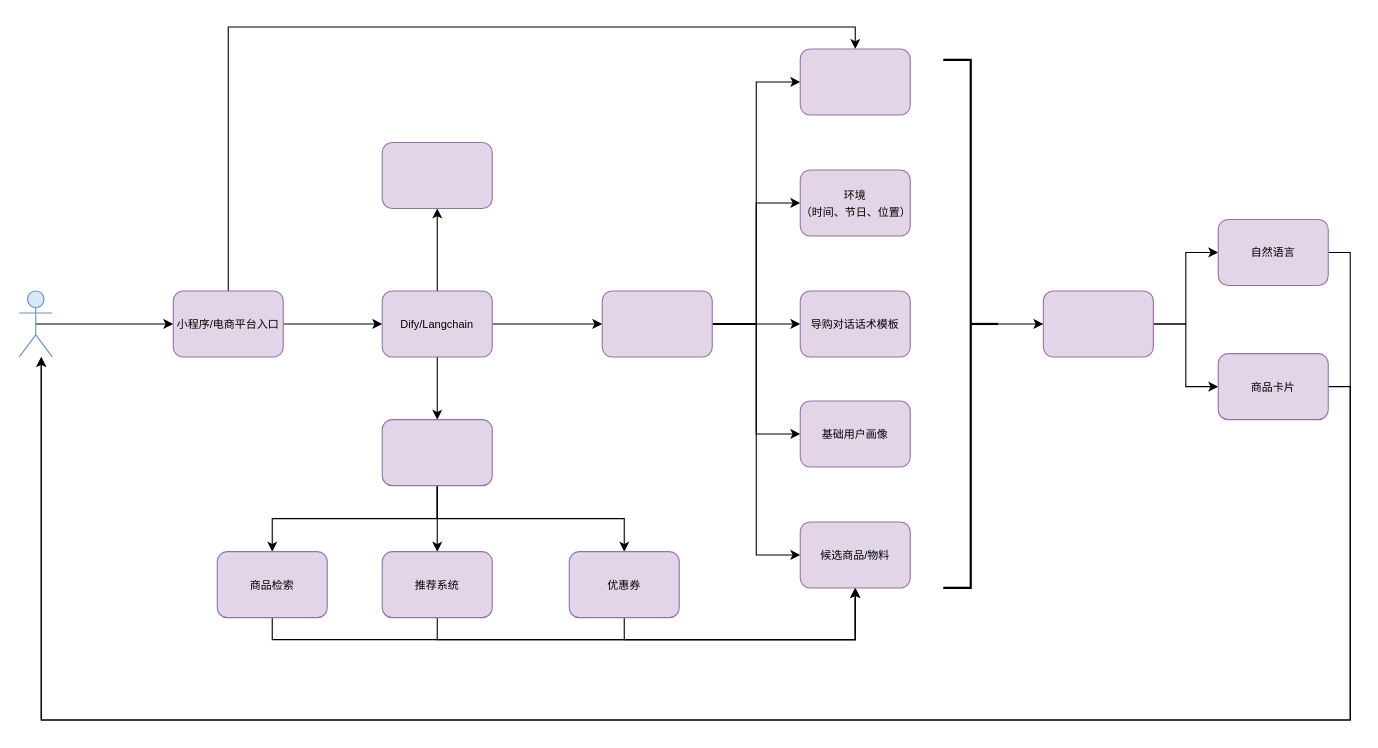
Some shapes in this 1378 by 748 pixel diagram are drawn without their labels. Each missing label, with the centre of its shape:
Actor: (x=35, y=323)
Agent回复: (x=1097, y=323)
LLM: (x=436, y=174)
工具: (x=436, y=452)
提示词: (x=656, y=323)
用户行为反馈: (x=854, y=81)
